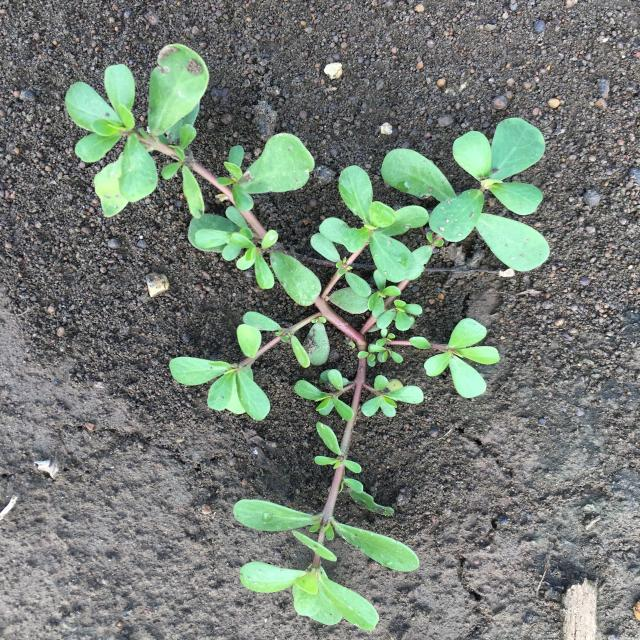Purslane: (65, 43, 550, 632)
